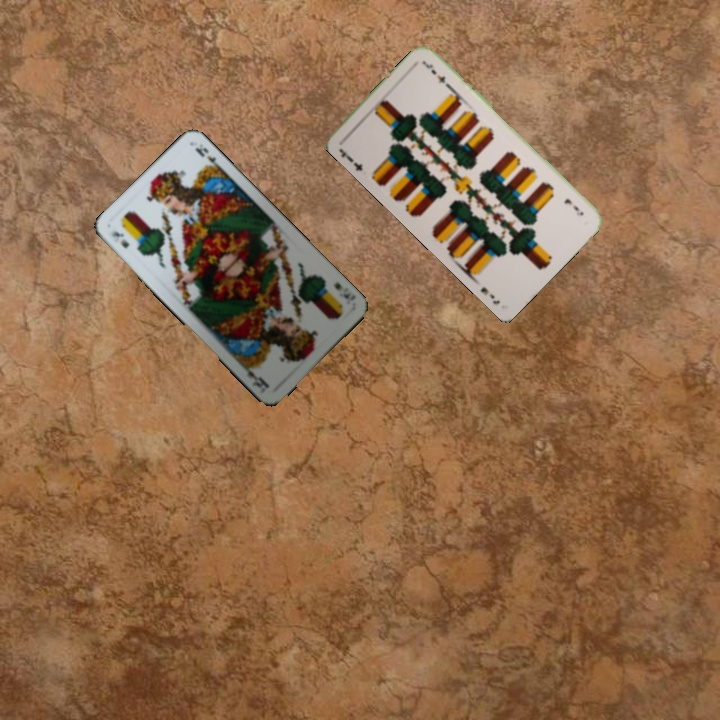E7: (335, 145, 365, 174), (560, 194, 586, 219)
EK: (329, 278, 353, 302), (108, 227, 132, 250)
